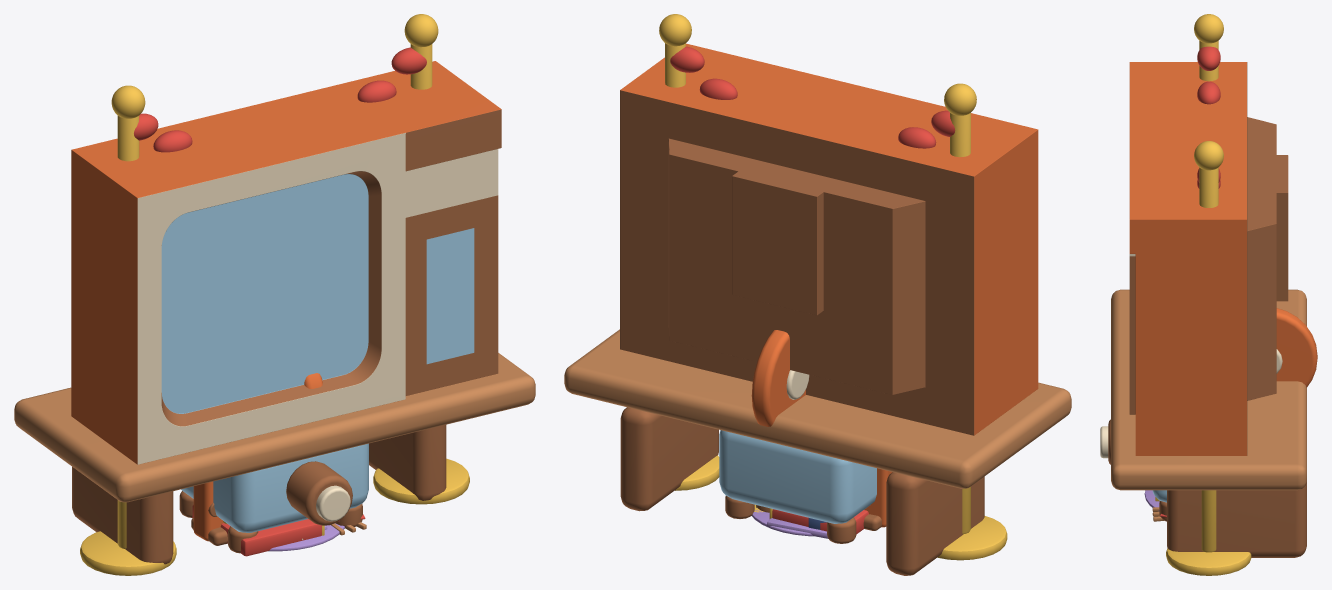
The model's file is interest_culture_v3_8.glb.
The picture shows the model from 3 angles, left to right: view 1: azimuth 30°, elevation 25°; view 2: azimuth 150°, elevation 25°; view 3: azimuth 270°, elevation 25°; orthographic projection. The views are drawn at different scales.
Visible parts, largest first — view 1: tv_televisionvintage, tv_shelf, gallery_rope, projector_body, tv_shelf_bracket_l, tv_shelf_bracket_r, projector_lens, saju_book_book, vhs_tapes, projector_lens_glass; view 2: tv_televisionvintage, tv_shelf, projector_body, gallery_rope, tv_shelf_bracket_r, tv_shelf_bracket_l, projector_reel_back, vhs_tapes; view 3: tv_televisionvintage, tv_shelf, tv_shelf_bracket_r, gallery_rope, projector_reel_back.
Boxes of the visible parts, bbox=[...] form: tv_televisionvintage: bbox=[71, 61, 501, 464]; tv_shelf: bbox=[14, 353, 535, 502]; gallery_rope: bbox=[80, 14, 469, 575]; projector_body: bbox=[181, 443, 368, 532]; tv_shelf_bracket_l: bbox=[72, 467, 173, 564]; tv_shelf_bracket_r: bbox=[369, 425, 446, 500]; projector_lens: bbox=[286, 461, 352, 525]; saju_book_book: bbox=[192, 505, 321, 556]; vhs_tapes: bbox=[193, 481, 223, 541]; projector_lens_glass: bbox=[316, 485, 350, 521]; tv_televisionvintage: bbox=[620, 43, 1038, 435]; tv_shelf: bbox=[564, 329, 1071, 488]; projector_body: bbox=[719, 430, 876, 523]; gallery_rope: bbox=[659, 14, 1007, 560]; tv_shelf_bracket_r: bbox=[620, 407, 718, 511]; tv_shelf_bracket_l: bbox=[886, 472, 984, 575]; projector_reel_back: bbox=[751, 330, 805, 426]; vhs_tapes: bbox=[864, 468, 892, 527]; tv_televisionvintage: bbox=[1129, 62, 1288, 455]; tv_shelf: bbox=[1111, 289, 1306, 490]; tv_shelf_bracket_r: bbox=[1167, 481, 1306, 557]; gallery_rope: bbox=[1166, 14, 1251, 575]; projector_reel_back: bbox=[1276, 308, 1317, 387].
Bounding box in the file's own units: 0.8004 × 0.8605 × 0.405.
